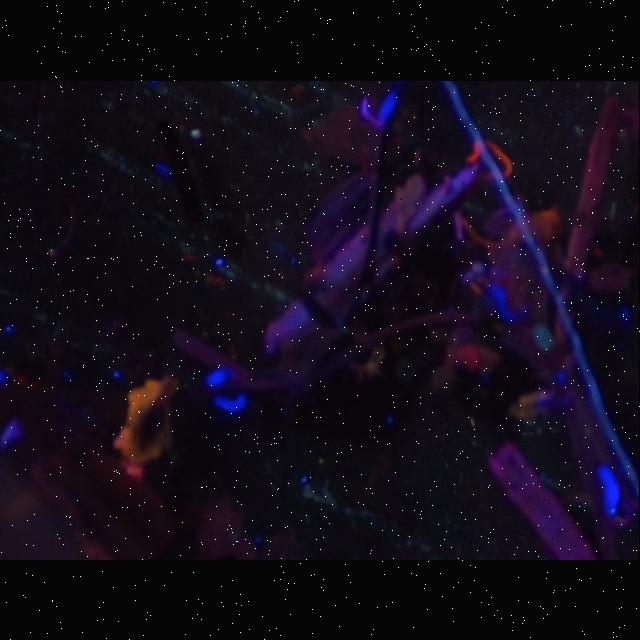microbeads: (190, 126, 202, 138)
